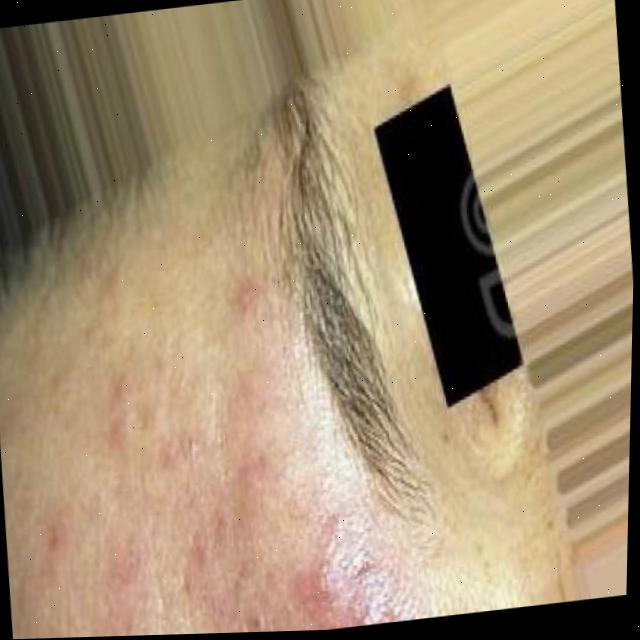Rosacea: (12, 271, 389, 639)
